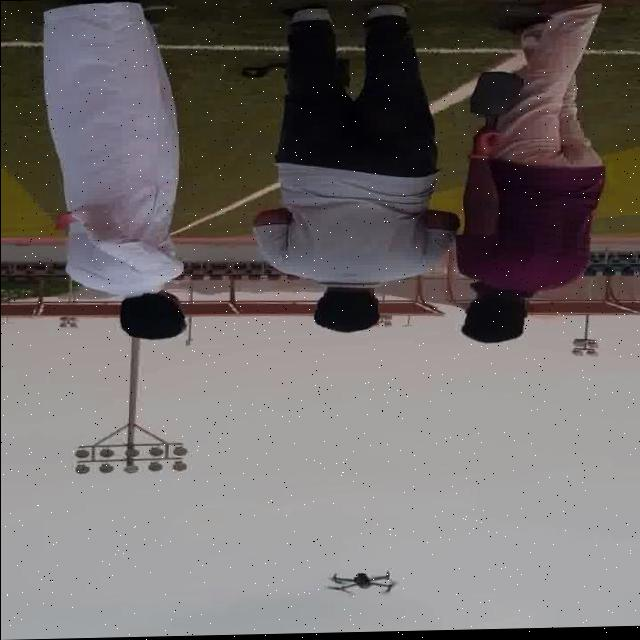drone: (319, 564, 403, 597)
